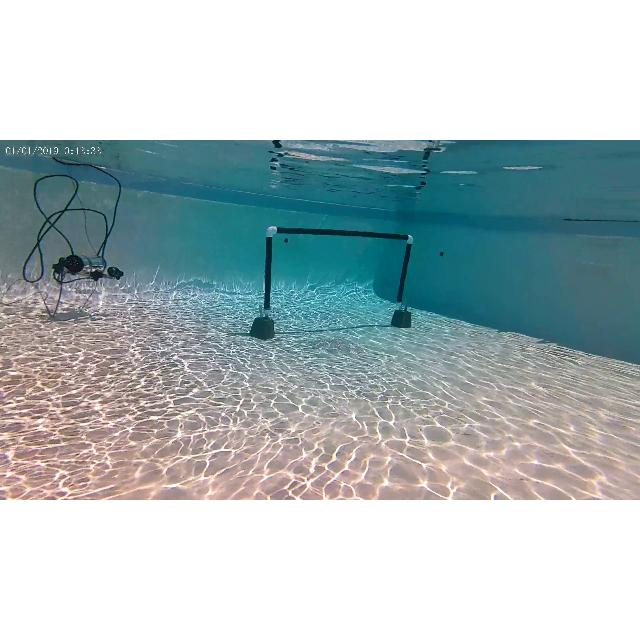prequal gate: (263, 225, 415, 312)
prequal gate leg l: (255, 222, 281, 326)
prequal gate leg r: (396, 228, 416, 322)
